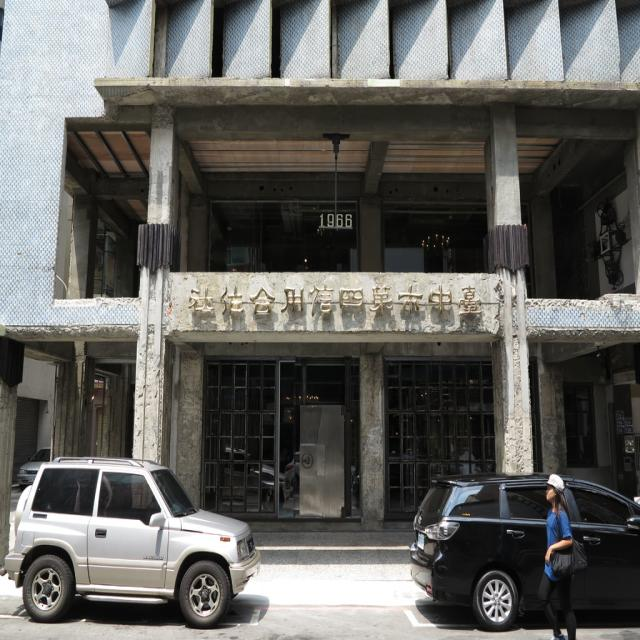car: (0, 452, 262, 618)
